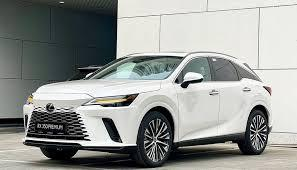lexus: (43, 98, 61, 117)
